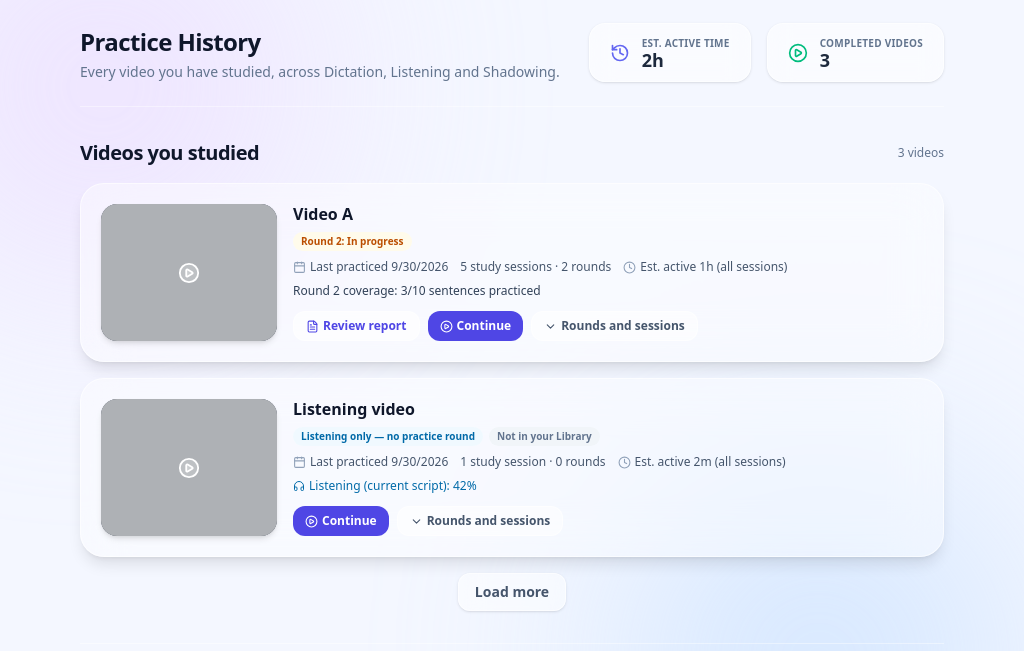
Test: study sessions sit in a collapsed section of the selected round; round-less Listening sittings stay separate
The width and height of the screenshot is (1024, 651).
What coordinates should you click on to do the following:
click the button "Rounds and sessions" in the row of "Review report"
I would click on:
 (614, 326)
Its box is [531,311,698,341].
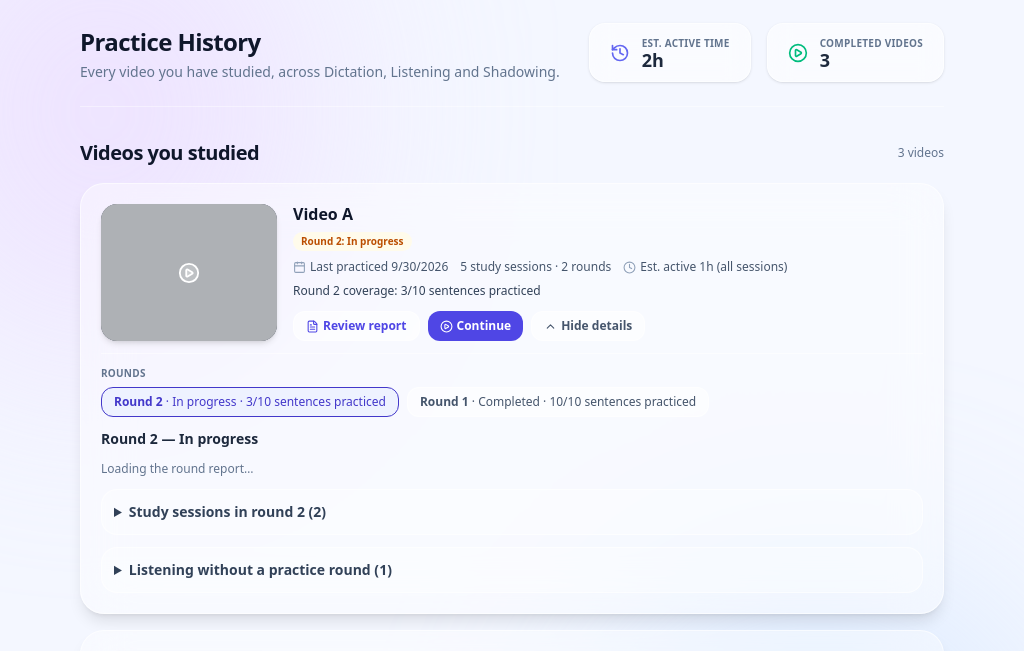
What coordinates should you click on to do the following:
click the button "Round 1 · Completed · 10/10 sentences practiced"
I would click on:
 (558, 402)
Its box is [407,387,709,417].
(page scrolled)
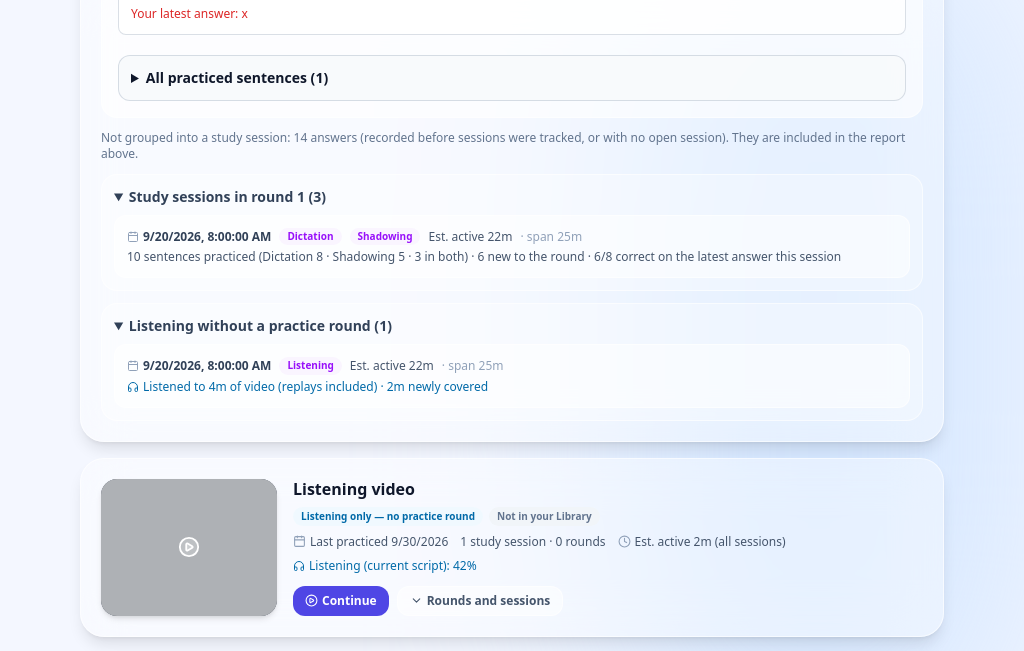
Expected: the text with test id "history-sentences" shows "10 sentences practiced (Dictation 8 · Shadowing 5 · 3 in both) · 6 new to the round · 6/8 correct on the latest answer this session", [127,249,897,265]
Expected: the list item with test id "history-session-s1" shows "Est. active 22m", [114,215,910,278]
Expected: the list item with test id "history-session-s1" shows "span 25m", [114,215,910,278]
